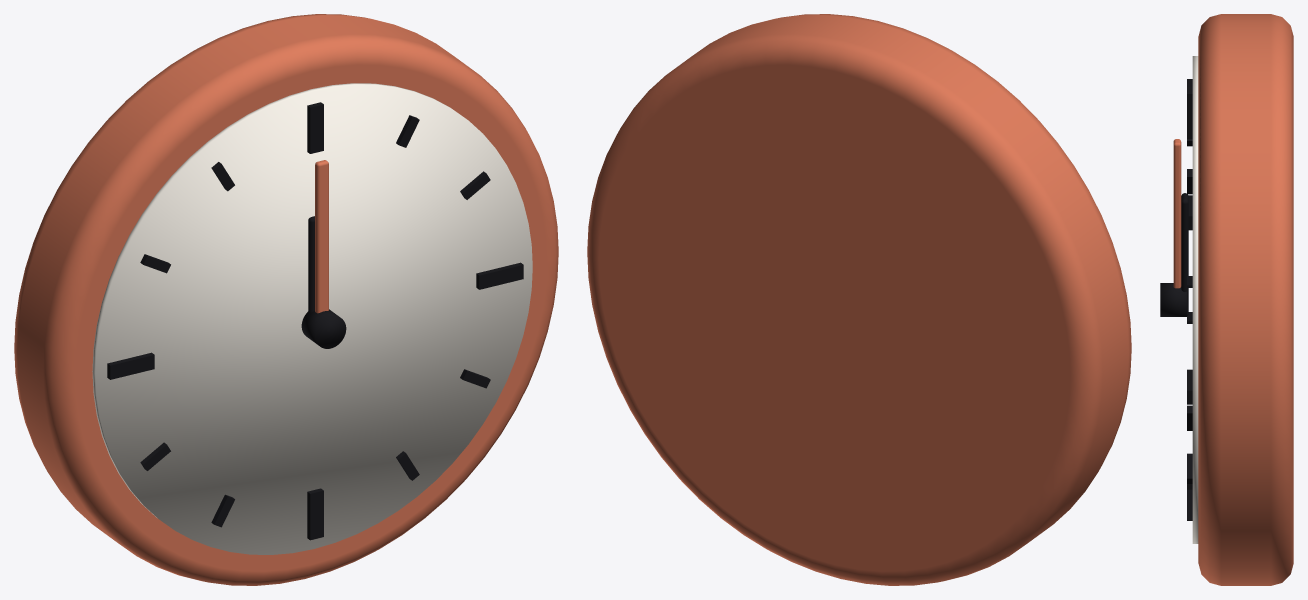
The model's file is clock.glb.
3 renders of one model, left to right at view 1: azimuth 30°, elevation 25°; view 2: azimuth 150°, elevation 25°; view 3: azimuth 270°, elevation 25°, orthographic. The views are drawn at different scales.
Parts seen in each view (by area): view 1: dial, body, hand_minute, cap, tick_3, tick_9, tick_0, tick_6; view 2: body; view 3: body, dial, hand_minute, cap, hand_hour, tick_0, tick_3.
Boxes of the visible parts, box(x1,y1,x2,y2) form: dial: box(92, 83, 532, 554); body: box(14, 14, 558, 585); hand_minute: box(315, 160, 328, 313); cap: box(301, 309, 346, 348); tick_3: box(476, 262, 523, 289); tick_9: box(107, 352, 154, 379); tick_0: box(307, 102, 323, 153); tick_6: box(307, 488, 323, 540); body: box(587, 14, 1131, 585); body: box(1198, 14, 1293, 585); dial: box(1192, 56, 1198, 543); hand_minute: box(1173, 139, 1181, 288); cap: box(1160, 283, 1186, 316); hand_hour: box(1181, 193, 1188, 315); tick_0: box(1187, 87, 1192, 138); tick_3: box(1187, 369, 1192, 404).
Size of the model in its own units: 1 by 1 by 0.2333.
